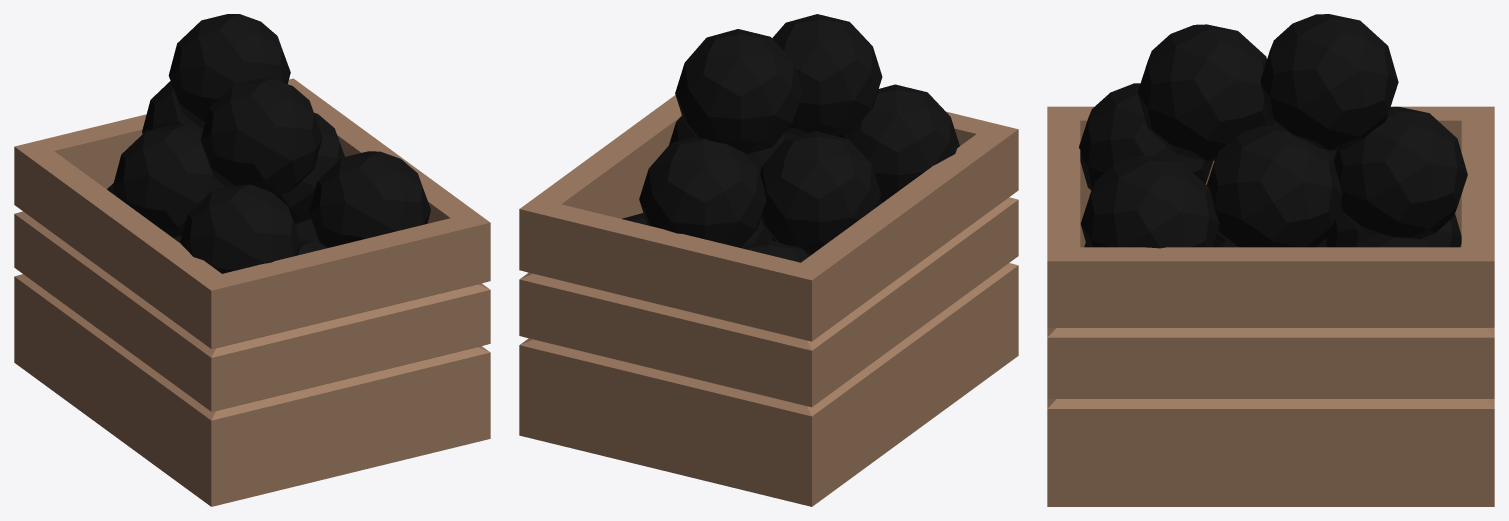
File: Cannon_ball_box.fbx
3 views of the same model, side by side, from view 1: azimuth 30°, elevation 25°; view 2: azimuth 150°, elevation 25°; view 3: azimuth 270°, elevation 25° (orthographic). The views are drawn at different scales.
Parts seen in each view (by area): view 1: Cannon_ball_box; view 2: Cannon_ball_box; view 3: Cannon_ball_box.
Part boxes in pixels (box(x1,y1,x2,y2)): Cannon_ball_box: box(14, 14, 490, 506); Cannon_ball_box: box(519, 14, 1018, 506); Cannon_ball_box: box(1047, 14, 1494, 506).
Size of the model in its own units: 0.6623 by 0.8224 by 0.8097.
